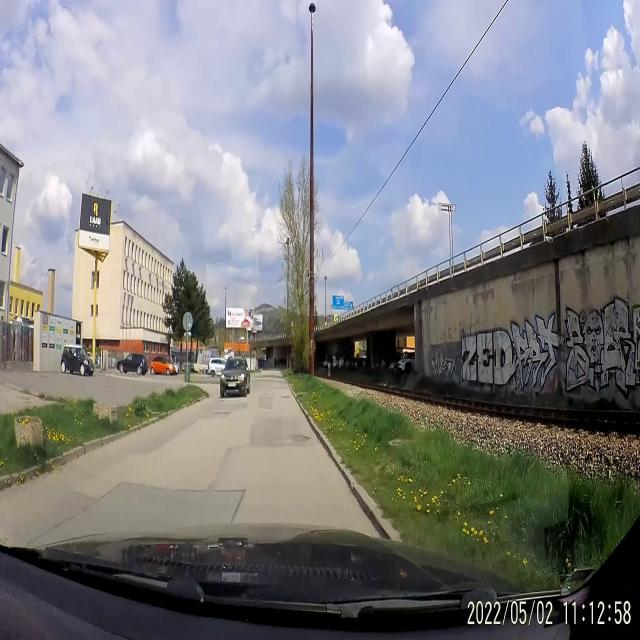Manhole: (278, 392, 293, 403)
Pothole: (288, 426, 312, 448), (210, 406, 232, 422)
